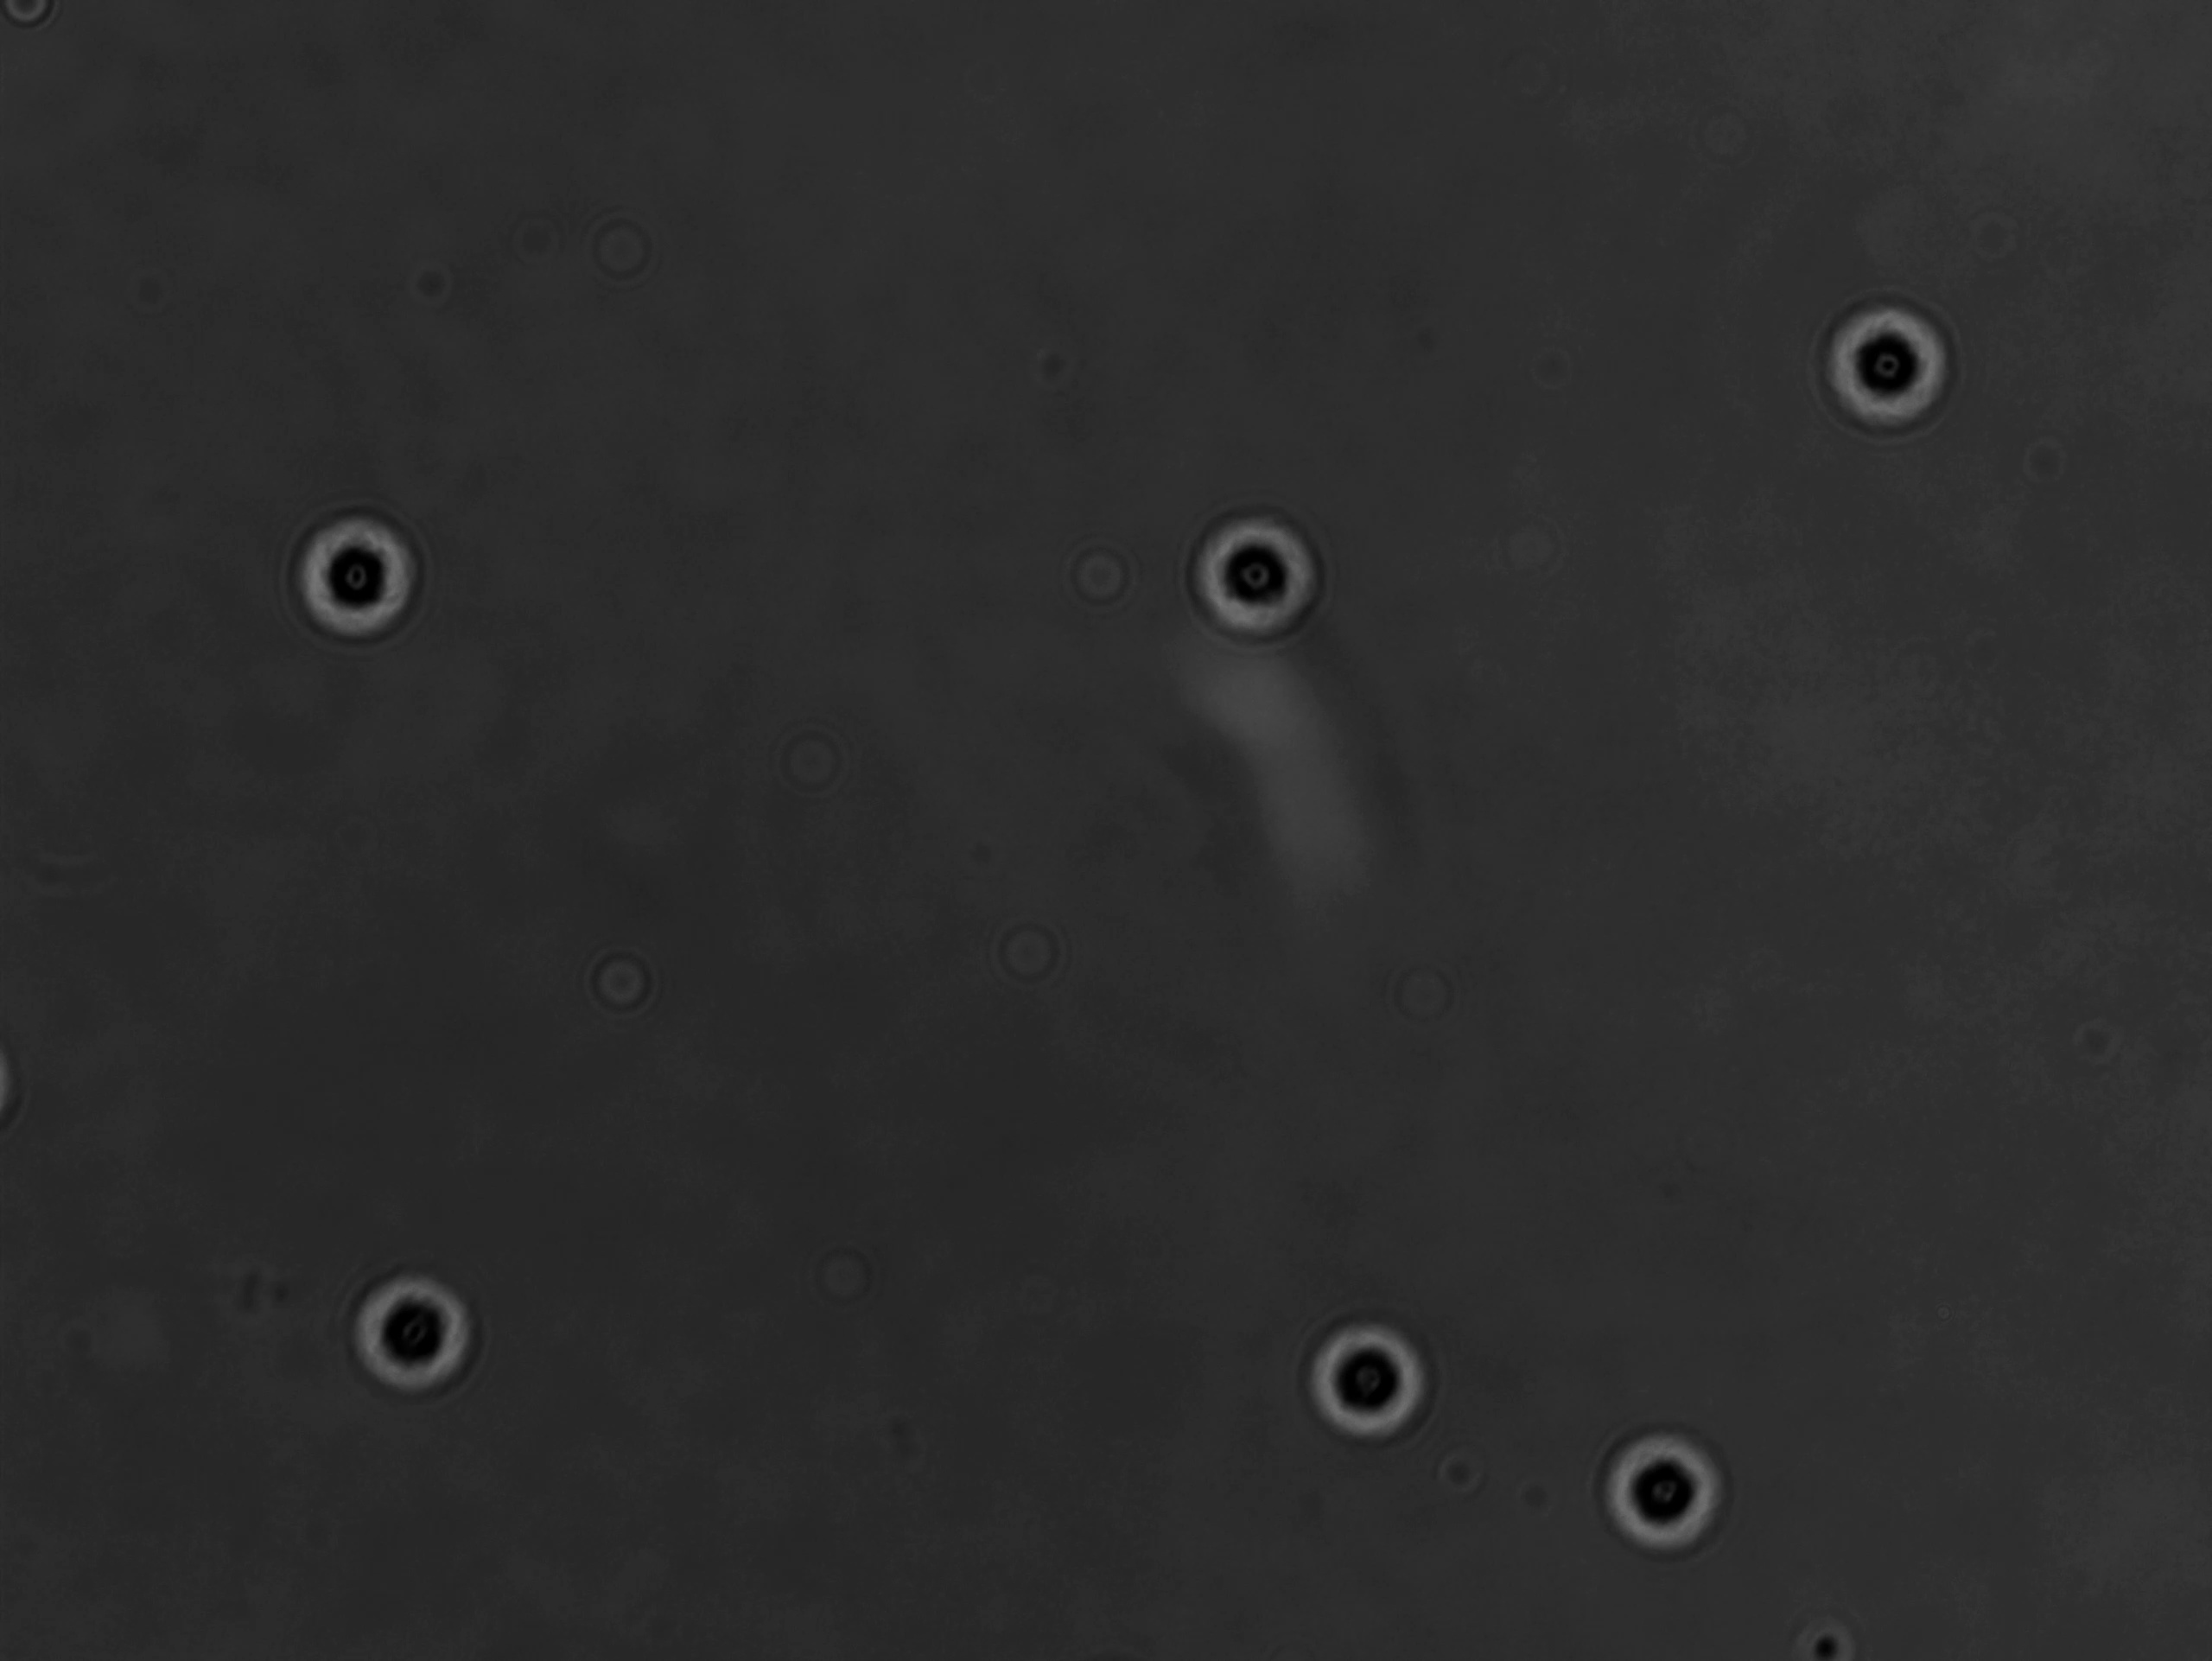depth:-20: (1174, 492, 1340, 663), (1575, 1408, 1750, 1569), (1287, 1293, 1457, 1455), (338, 1244, 499, 1413), (272, 496, 434, 661), (1804, 283, 1964, 443)
